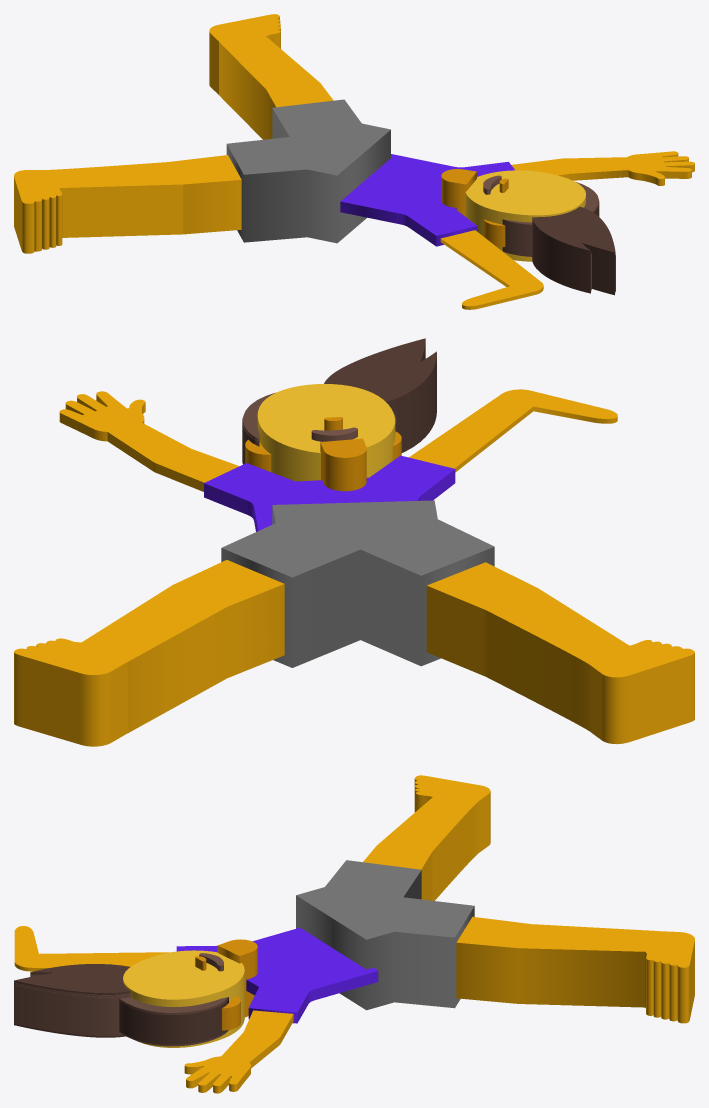
The model's file is emoji_u1f938_200d_2640.glb.
The picture shows the model from 3 angles, top to bottom: view 1: azimuth 30°, elevation 25°; view 2: azimuth 150°, elevation 25°; view 3: azimuth 270°, elevation 25°; orthographic projection. The views are drawn at different scales.
Parts seen in each view (by area): view 1: emoji_u1f938_200d_2640; view 2: emoji_u1f938_200d_2640; view 3: emoji_u1f938_200d_2640.
Part boxes in pixels (left/top/right/bottom): emoji_u1f938_200d_2640: left=14, top=14, right=694, bottom=309; emoji_u1f938_200d_2640: left=14, top=338, right=694, bottom=746; emoji_u1f938_200d_2640: left=14, top=775, right=694, bottom=1093.
Size of the model in its own units: 0.0333 by 0.0038 by 0.0332.
